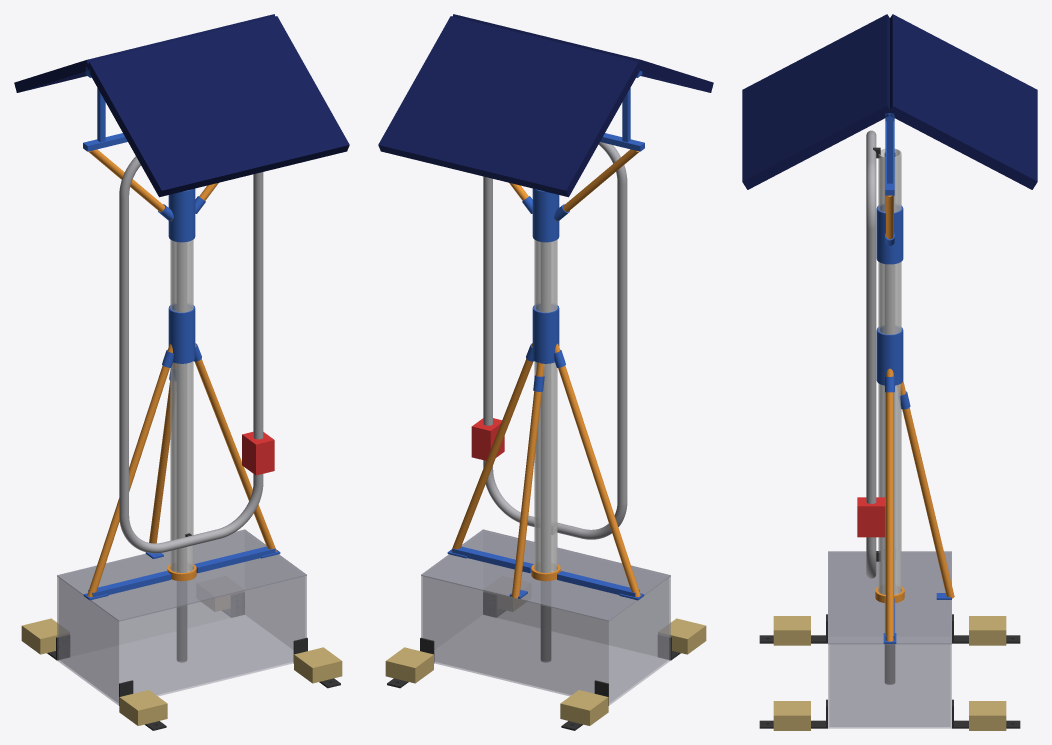
3 views of the same model, side by side, from view 1: azimuth 30°, elevation 25°; view 2: azimuth 150°, elevation 25°; view 3: azimuth 270°, elevation 25° (orthographic).
Parts seen in each view (by area): view 1: solar_panels, tank, lid, track_loop, growing_pipe, lower_aframe_and_back_strut, sandbags, spine_tube, brace_couplings, base_bar_and_lid_plates, fold_out_feet, cart (+1 smaller); view 2: solar_panels, tank, lid, track_loop, growing_pipe, lower_aframe_and_back_strut, sandbags, spine_tube, brace_couplings, base_bar_and_lid_plates, fold_out_feet, cart (+1 smaller); view 3: solar_panels, tank, lid, growing_pipe, sandbags, track_loop, lower_aframe_and_back_strut, brace_couplings, spine_tube, fold_out_feet, cart.
Boxes of the visible parts, box(x1,y1,x2,y2) form: solar_panels: box(14, 14, 349, 197); tank: box(57, 576, 306, 705); lid: box(57, 529, 306, 621); track_loop: box(119, 156, 263, 553); growing_pipe: box(170, 190, 193, 572); lower_aframe_and_back_strut: box(87, 343, 276, 596); sandbags: box(21, 595, 342, 725); spine_tube: box(177, 242, 186, 662); brace_couplings: box(158, 188, 205, 380); base_bar_and_lid_plates: box(83, 546, 280, 600); fold_out_feet: box(47, 592, 340, 730); cart: box(242, 432, 274, 475); solar_panels: box(378, 14, 713, 197); tank: box(421, 576, 670, 705); lid: box(421, 529, 670, 621); track_loop: box(483, 142, 627, 539); growing_pipe: box(534, 190, 557, 572); lower_aframe_and_back_strut: box(451, 343, 640, 598); sandbags: box(385, 595, 706, 725); spine_tube: box(541, 242, 550, 662); brace_couplings: box(522, 188, 569, 391); base_bar_and_lid_plates: box(447, 546, 644, 600); fold_out_feet: box(387, 592, 680, 730); cart: box(471, 418, 504, 460); solar_panels: box(742, 14, 1037, 189); tank: box(828, 553, 951, 728); lid: box(828, 551, 951, 644); growing_pipe: box(878, 148, 901, 594); sandbags: box(773, 616, 1006, 730); track_loop: box(866, 130, 876, 578); lower_aframe_and_back_strut: box(886, 368, 954, 641); brace_couplings: box(876, 205, 910, 409); spine_tube: box(884, 152, 895, 684); fold_out_feet: box(759, 614, 1020, 728); cart: box(857, 497, 885, 537).
Size of the model in its own units: 760 by 2215 by 953.
